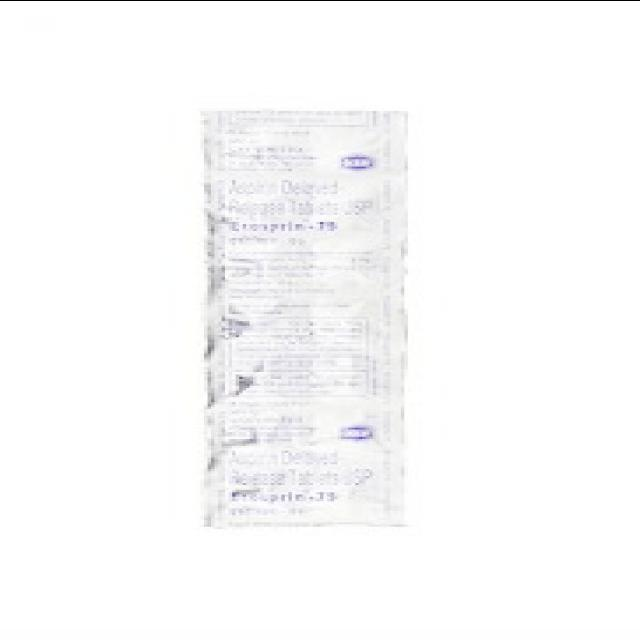authentic: (174, 97, 431, 542)
